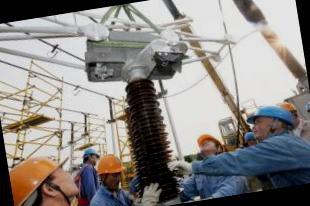person: (207, 99, 310, 196), (167, 127, 248, 202), (78, 147, 159, 206), (66, 146, 110, 206)
